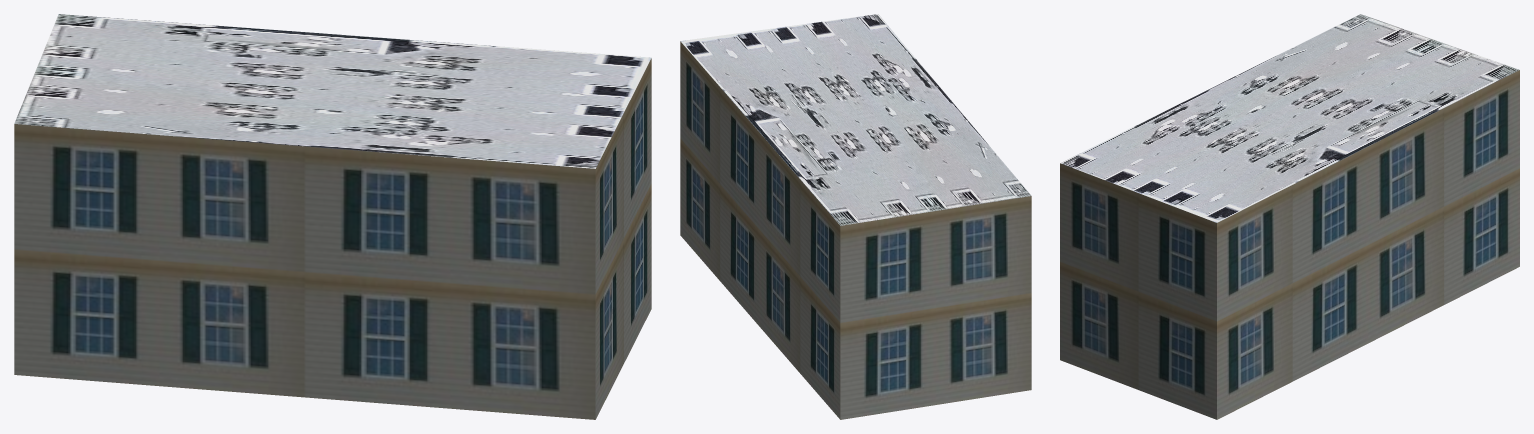
File: ResTex__673.fbx
3 views of the same model, side by side, from view 1: azimuth 30°, elevation 25°; view 2: azimuth 150°, elevation 25°; view 3: azimuth 270°, elevation 25° (orthographic). The views are drawn at different scales.
Parts seen in each view (by area): view 1: CityEngineMaterial_7_m, CityEngineMaterial_4_m; view 2: CityEngineMaterial_7_m, CityEngineMaterial_4_m; view 3: CityEngineMaterial_7_m, CityEngineMaterial_4_m.
Part boxes in pixels (x1,y1,x2,y2): CityEngineMaterial_7_m: (14, 58, 651, 419); CityEngineMaterial_4_m: (14, 14, 651, 168); CityEngineMaterial_7_m: (680, 41, 1031, 419); CityEngineMaterial_4_m: (680, 14, 1031, 225); CityEngineMaterial_7_m: (1060, 70, 1519, 419); CityEngineMaterial_4_m: (1060, 14, 1519, 222).
Size of the model in its own units: 13.66 by 6 by 12.69.
2 materials, 2 textured.
